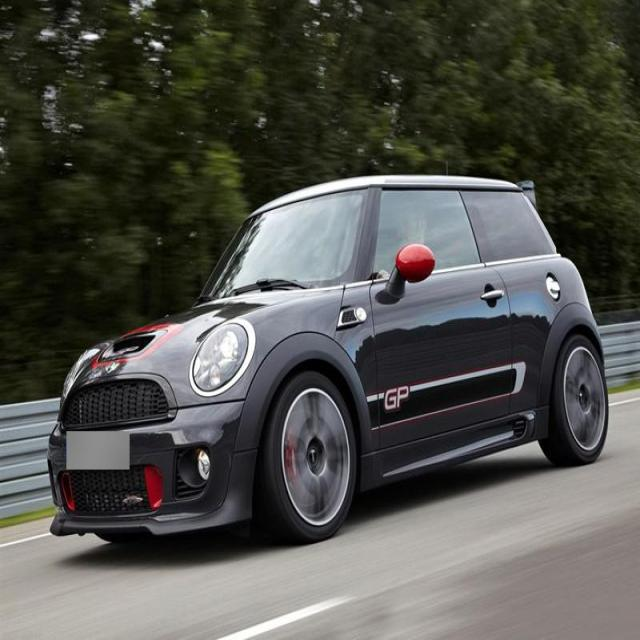front_bumper: (42, 406, 263, 542)
front_glass: (191, 180, 373, 310)
front_left_side_door: (364, 176, 518, 465)
front_left_side_light: (189, 314, 255, 401)
front_left_side_mirror: (377, 240, 436, 307)
front_right_side_light: (61, 342, 102, 409)
wheel: (261, 364, 360, 542), (537, 332, 611, 463)
